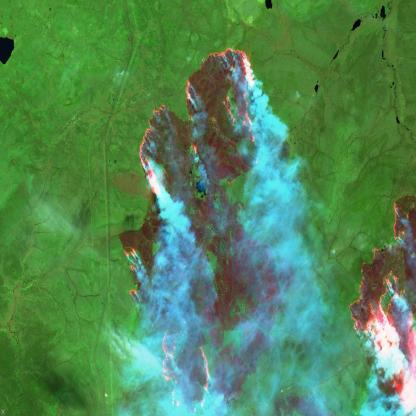fire: (115, 40, 260, 416), (347, 187, 416, 416)
